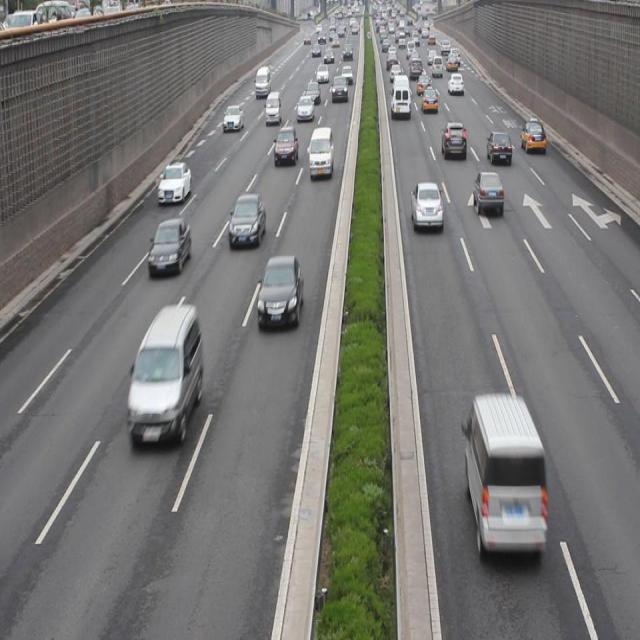car: (128, 304, 202, 444), (256, 253, 302, 332), (149, 220, 191, 274), (227, 191, 265, 246), (409, 180, 442, 232), (156, 161, 192, 202), (272, 124, 300, 168), (471, 172, 502, 210), (440, 122, 465, 160), (484, 131, 510, 163), (519, 120, 543, 150)
truck: (460, 394, 544, 558), (307, 128, 334, 178)
